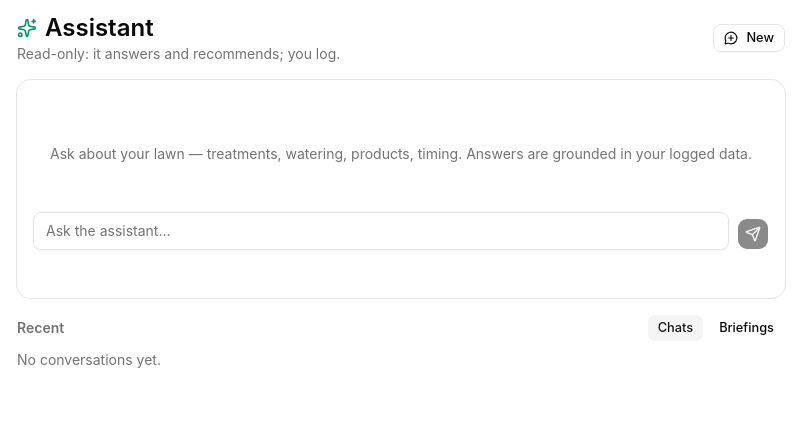
ChatPanel › submits on Enter without a button click
In the text box named "Message": [381, 231] box [33,212,729,250], type "quick question"
Then press Enter
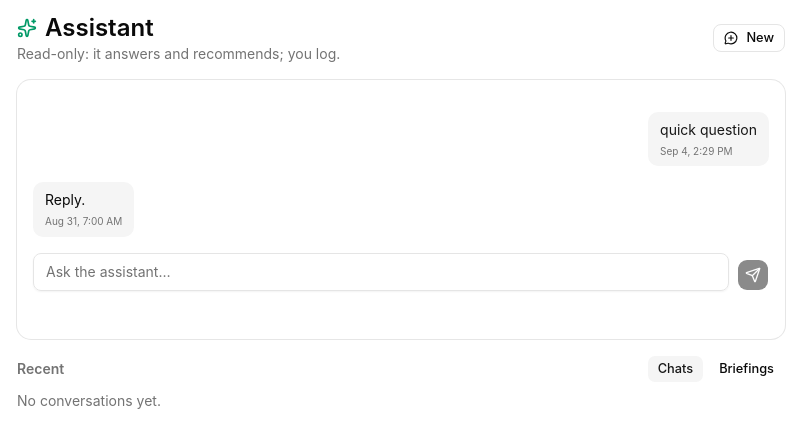
Expected: the text "Reply." is shown, [45,191,85,208]
